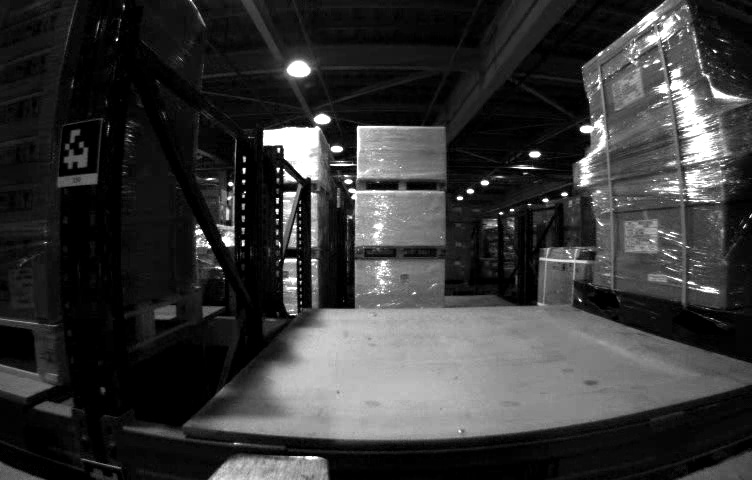True Barcode: (10, 266, 38, 307)
